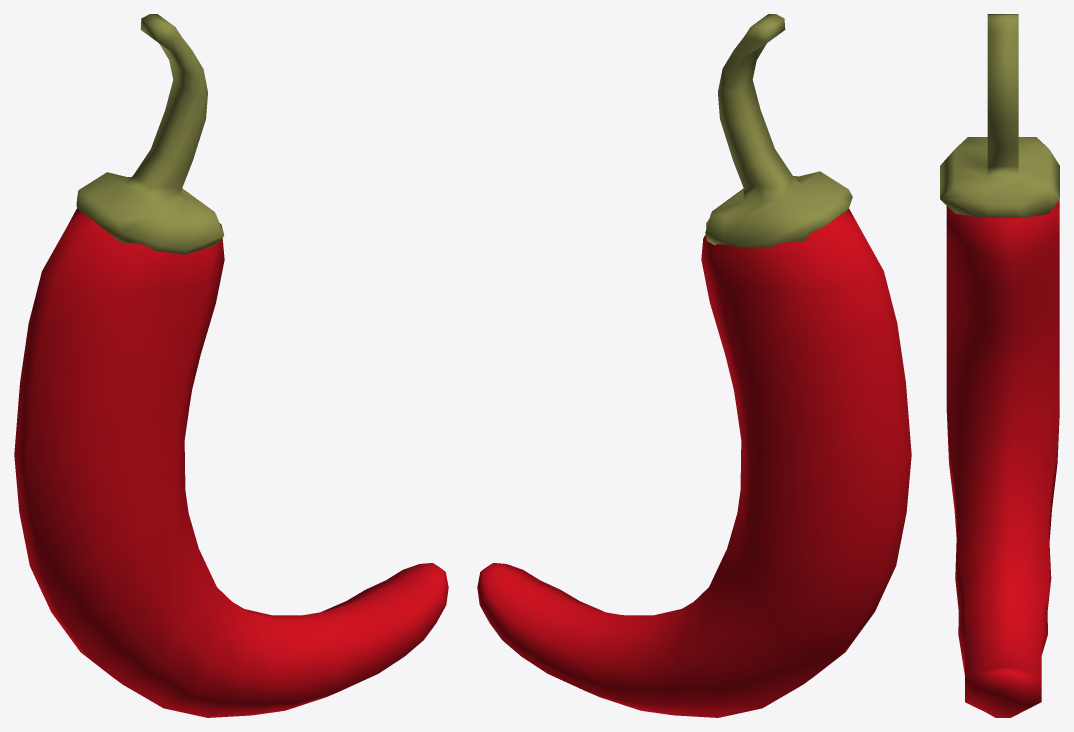
The model's file is chilli.glb.
The picture shows the model from 3 angles, left to right: view 1: azimuth 30°, elevation 25°; view 2: azimuth 150°, elevation 25°; view 3: azimuth 270°, elevation 25°; orthographic projection. The views are drawn at different scales.
Visible parts, largest first — view 1: Cube; view 2: Cube; view 3: Cube.
Part boxes in pixels (box(x1,y1,x2,y2)): Cube: box(14, 14, 448, 717); Cube: box(477, 14, 911, 717); Cube: box(940, 14, 1059, 717).
Bounding box in the file's own units: 2.89 × 4.7 × 0.8125.
